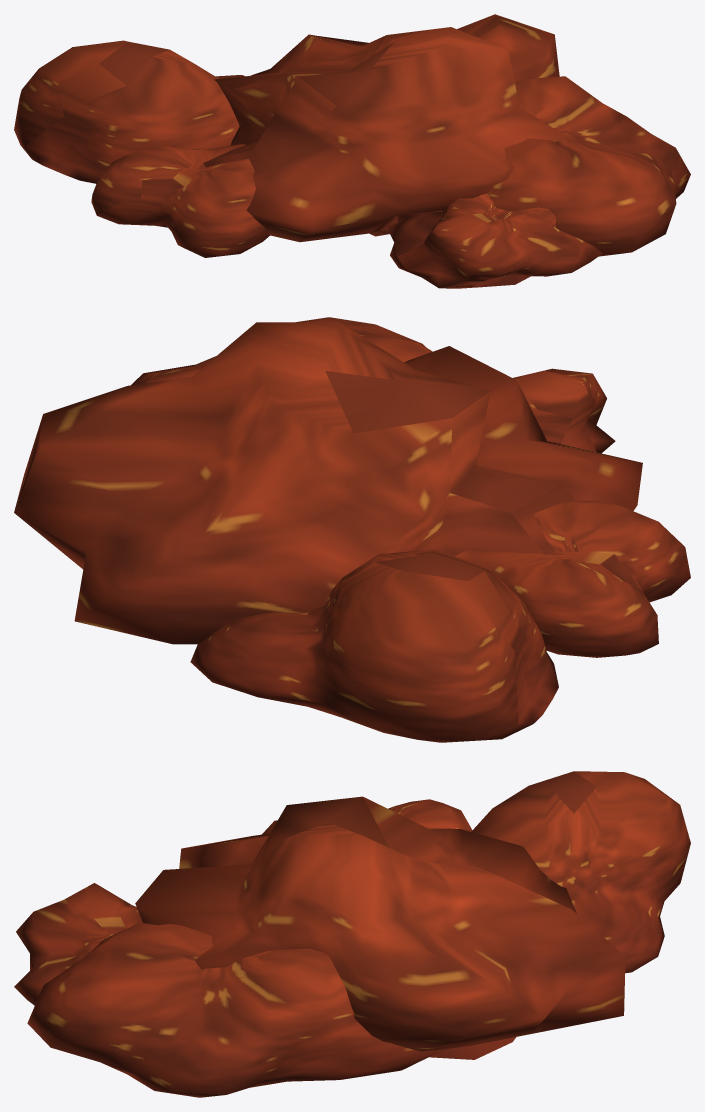
The model's file is ochre.glb.
The picture shows the model from 3 angles, top to bottom: view 1: azimuth 30°, elevation 25°; view 2: azimuth 150°, elevation 25°; view 3: azimuth 270°, elevation 25°; orthographic projection. The views are drawn at different scales.
Visible parts, largest first — view 1: ochre; view 2: ochre; view 3: ochre.
Boxes of the visible parts, x1,y1,x2,y2 form: ochre: [14, 14, 690, 288]; ochre: [14, 317, 690, 742]; ochre: [14, 771, 690, 1097].
Size of the model in its own units: 0.3535 by 0.0984 by 0.3722.
1 material, 1 textured.
